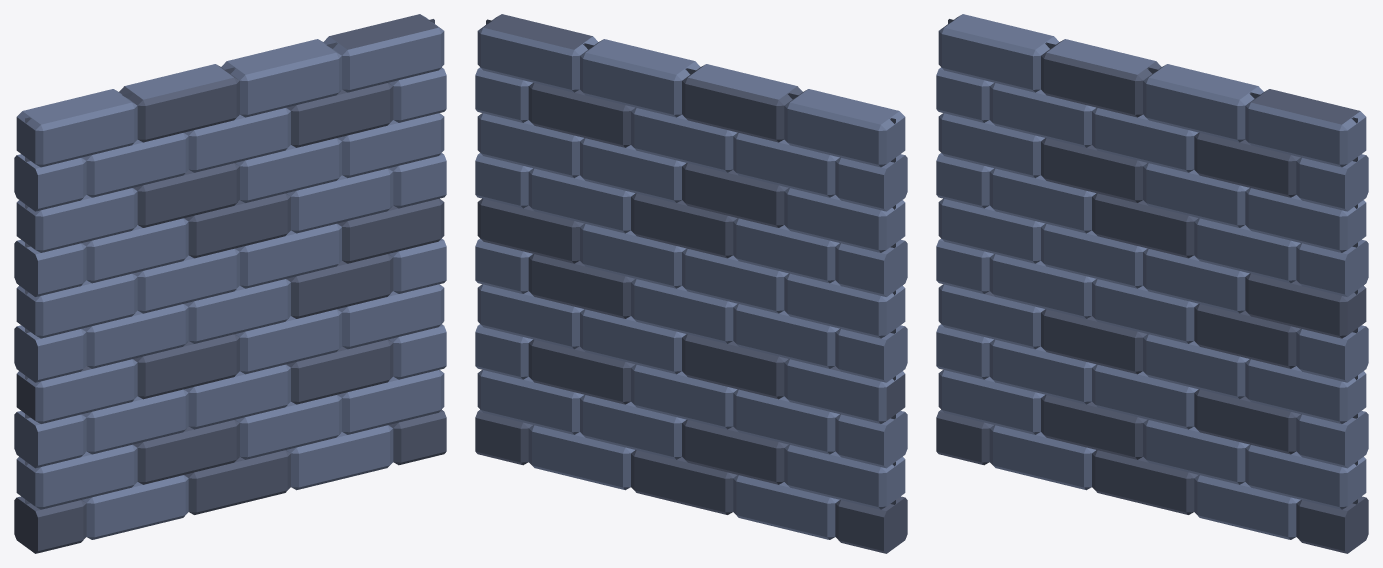
The model's file is wall.fbx.
3 views of the same model, side by side, from view 1: azimuth 30°, elevation 25°; view 2: azimuth 150°, elevation 25°; view 3: azimuth 330°, elevation 25° (orthographic).
Parts seen in each view (by area): view 1: brick wall; view 2: brick wall; view 3: brick wall.
Part boxes in pixels (x1,y1,x2,y2): brick wall: (14, 14, 446, 553); brick wall: (475, 14, 907, 553); brick wall: (936, 14, 1368, 553).
Bounding box in the file's own units: 100 × 10 × 100.
